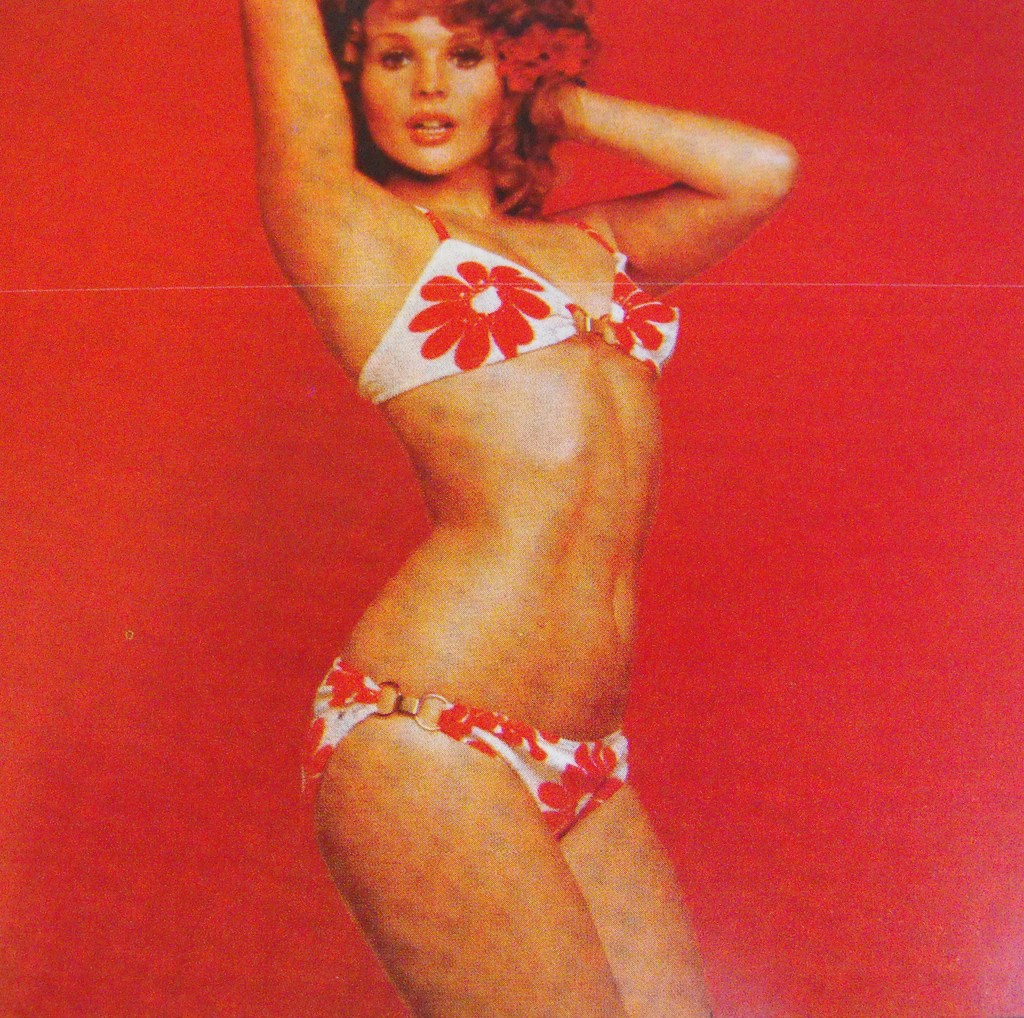Person: (240, 0, 797, 1018)
